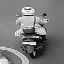motor: (15, 5, 48, 58)
